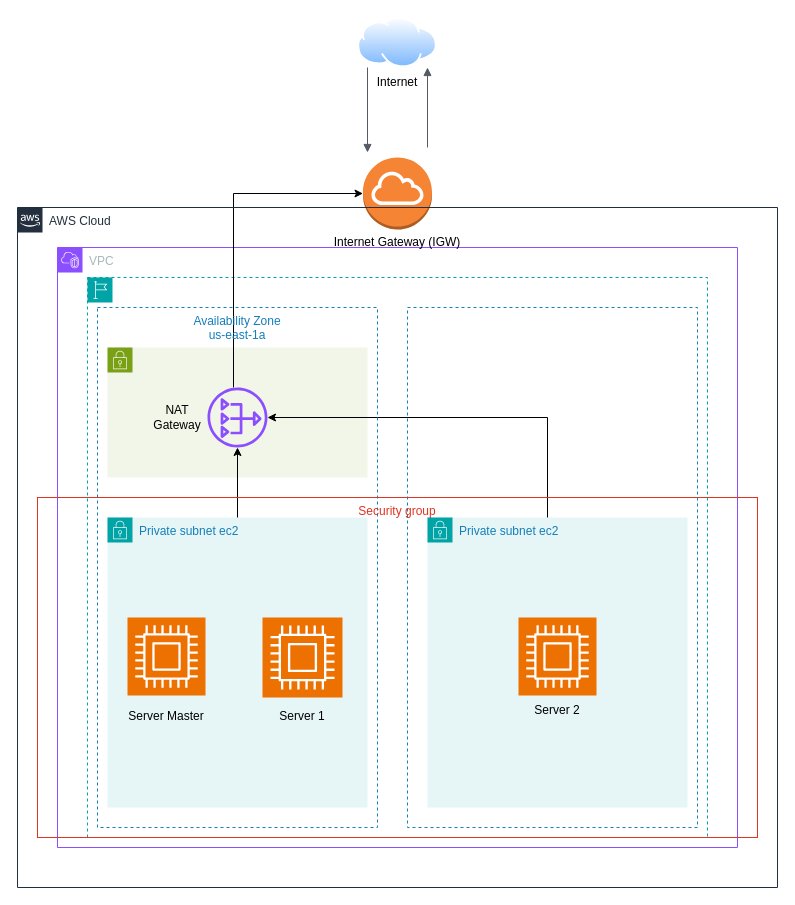
Some shapes in this 795 by 905 pixel diagram are drawn without their labels. Here are the shapes that lost their labels. From the top down, the box of each, then its label:
(106, 346, 368, 478): Public subnet Nat Gateway
(86, 276, 708, 838): Region
(406, 306, 698, 828): Availability Zone us-east-1b
